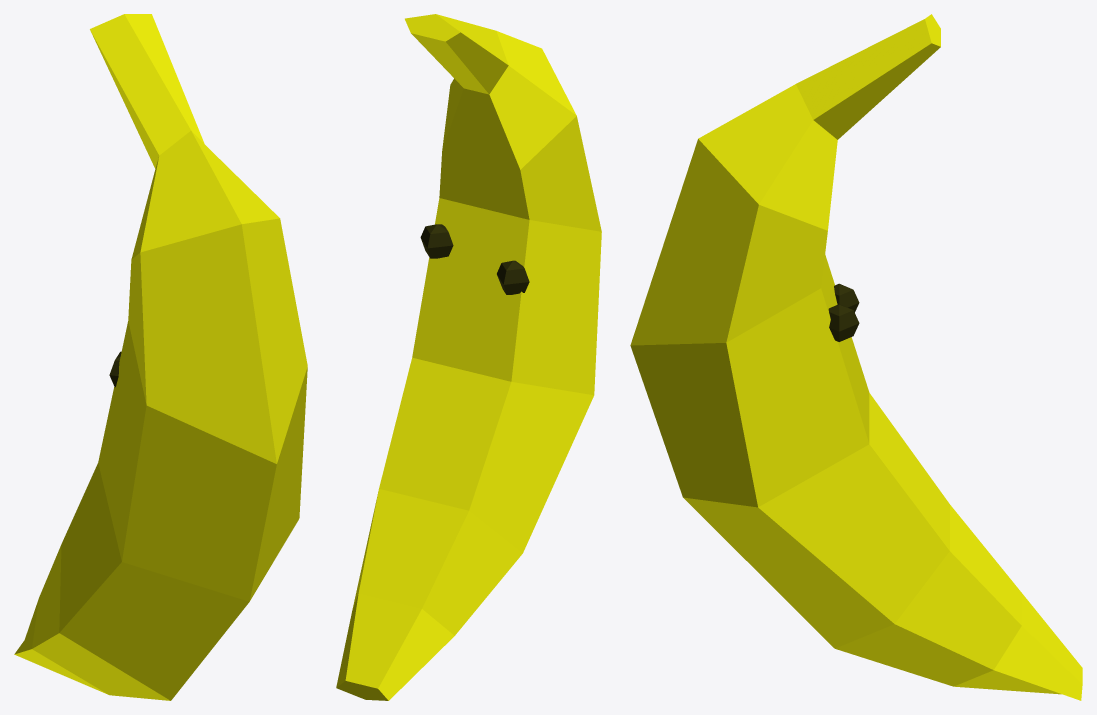
File: Banana.fbx
3 views of the same model, side by side, from view 1: azimuth 30°, elevation 25°; view 2: azimuth 150°, elevation 25°; view 3: azimuth 270°, elevation 25° (orthographic). The views are drawn at different scales.
Visible parts, largest first — view 1: body; view 2: body, right eye, left eye; view 3: body, right eye.
Part boxes in pixels (x1,y1,x2,y2): body: [14, 14, 307, 700]; body: [336, 14, 601, 700]; right eye: [420, 224, 453, 258]; left eye: [497, 260, 529, 294]; body: [630, 14, 1082, 700]; right eye: [828, 304, 859, 341].
Bounding box in the file's own units: 113 × 428 × 259.
Materials: 1 (1 with a texture image).
